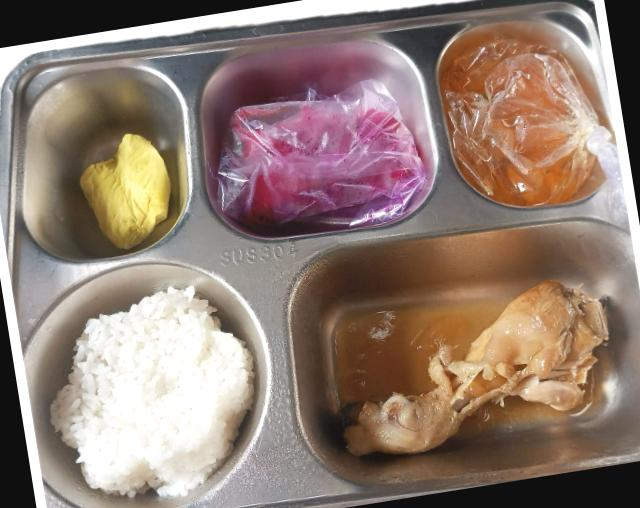ayam: (344, 280, 608, 455)
buah: (218, 80, 426, 226)
nasi: (51, 286, 254, 496)
sayur: (441, 36, 600, 206)
tahu: (80, 134, 171, 249)
